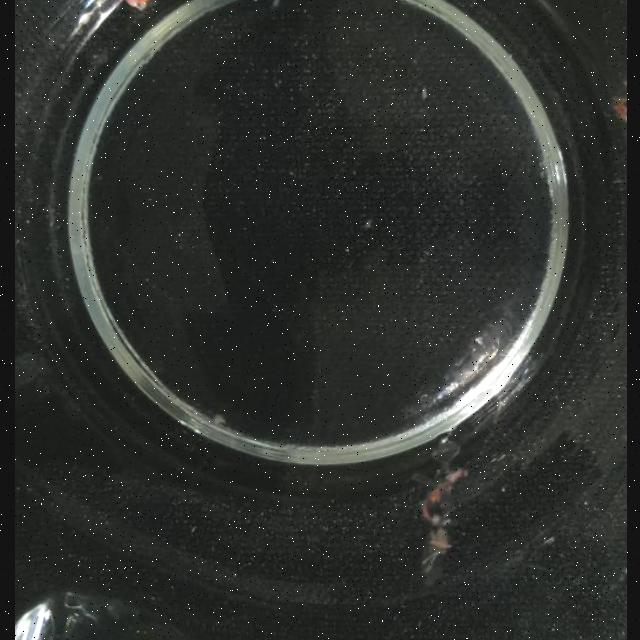Fragment: (414, 452, 472, 582), (600, 78, 626, 130), (125, 1, 155, 16)
